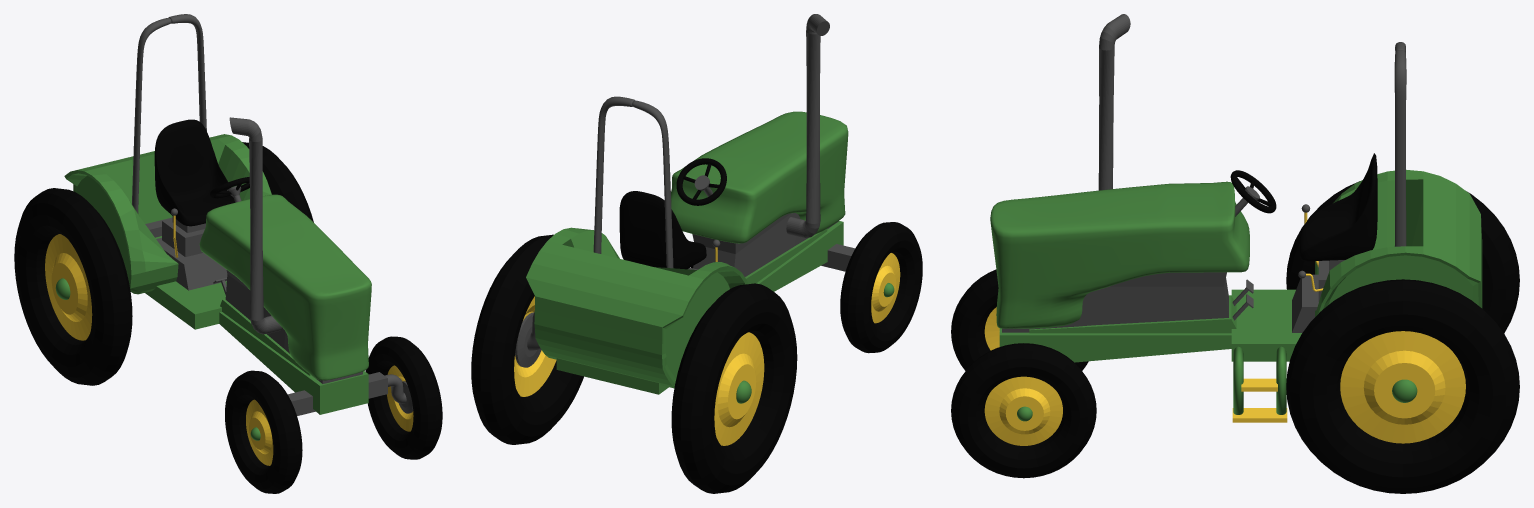
Rendered from TractorPractice.fbx.
The picture shows the model from 3 angles, left to right: view 1: azimuth 30°, elevation 25°; view 2: azimuth 150°, elevation 25°; view 3: azimuth 270°, elevation 25°; orthographic projection. The views are drawn at different scales.
Visible parts, largest first — view 1: Engine Cover, Back Right Tire, Chair Block, Front Right Tire, Chair, Front Left Tire, Front Body, Exhaust, Back Right Hubcap, Back Body, Bottom Chair Stand, Back Left Tire (+8 smaller); view 2: Chair Block, Back Right Tire, Engine Cover, Back Left Tire, Front Right Tire, Chair, Back Right Hubcap, Exhaust, Engine Block, Front Body, Left Arch, Right Arch (+7 smaller); view 3: Back Left Tire, Engine Cover, Chair Block, Front Left Tire, Back Left Hubcap, Engine Block, Front Body, Chair, Back Right Tire, Front Left Hubcap, Back Body, Front Right Tire (+8 smaller).
Part boxes in pixels (x1=…): Engine Cover: x1=199, y1=194, x2=371, y2=380; Back Right Tire: x1=14, y1=188, x2=132, y2=385; Chair Block: x1=64, y1=134, x2=271, y2=294; Front Right Tire: x1=225, y1=370, x2=302, y2=493; Chair: x1=154, y1=119, x2=235, y2=226; Front Left Tire: x1=365, y1=336, x2=442, y2=459; Front Body: x1=219, y1=312, x2=368, y2=414; Exhaust: x1=229, y1=117, x2=281, y2=334; Back Right Hubcap: x1=45, y1=234, x2=92, y2=340; Back Body: x1=145, y1=281, x2=226, y2=329; Bottom Chair Stand: x1=156, y1=237, x2=227, y2=290; Back Left Tire: x1=242, y1=142, x2=313, y2=222; Chair Block: x1=526, y1=227, x2=748, y2=388; Back Right Tire: x1=671, y1=283, x2=797, y2=493; Engine Cover: x1=671, y1=111, x2=848, y2=243; Back Left Tire: x1=471, y1=234, x2=583, y2=444; Front Right Tire: x1=840, y1=222, x2=922, y2=353; Chair: x1=619, y1=191, x2=706, y2=269; Back Right Hubcap: x1=714, y1=332, x2=764, y2=445; Exhaust: x1=786, y1=14, x2=829, y2=238; Engine Block: x1=692, y1=213, x2=838, y2=276; Front Body: x1=756, y1=221, x2=843, y2=291; Left Arch: x1=593, y1=96, x2=635, y2=253; Right Arch: x1=632, y1=100, x2=673, y2=268; Back Left Tire: x1=1286, y1=279, x2=1519, y2=493; Engine Cover: x1=990, y1=181, x2=1249, y2=328; Chair Block: x1=1315, y1=169, x2=1482, y2=316; Front Left Tire: x1=951, y1=343, x2=1096, y2=478; Back Left Hubcap: x1=1340, y1=331, x2=1465, y2=443; Engine Block: x1=1002, y1=272, x2=1228, y2=332; Front Body: x1=999, y1=328, x2=1231, y2=362; Chair: x1=1300, y1=153, x2=1377, y2=261; Back Right Tire: x1=1286, y1=181, x2=1519, y2=333; Front Left Hubcap: x1=984, y1=376, x2=1062, y2=445; Back Body: x1=1231, y1=289, x2=1301, y2=361; Front Right Tire: x1=951, y1=269, x2=1088, y2=370.
Bounding box in the file's own units: 577 × 847 × 1112.
